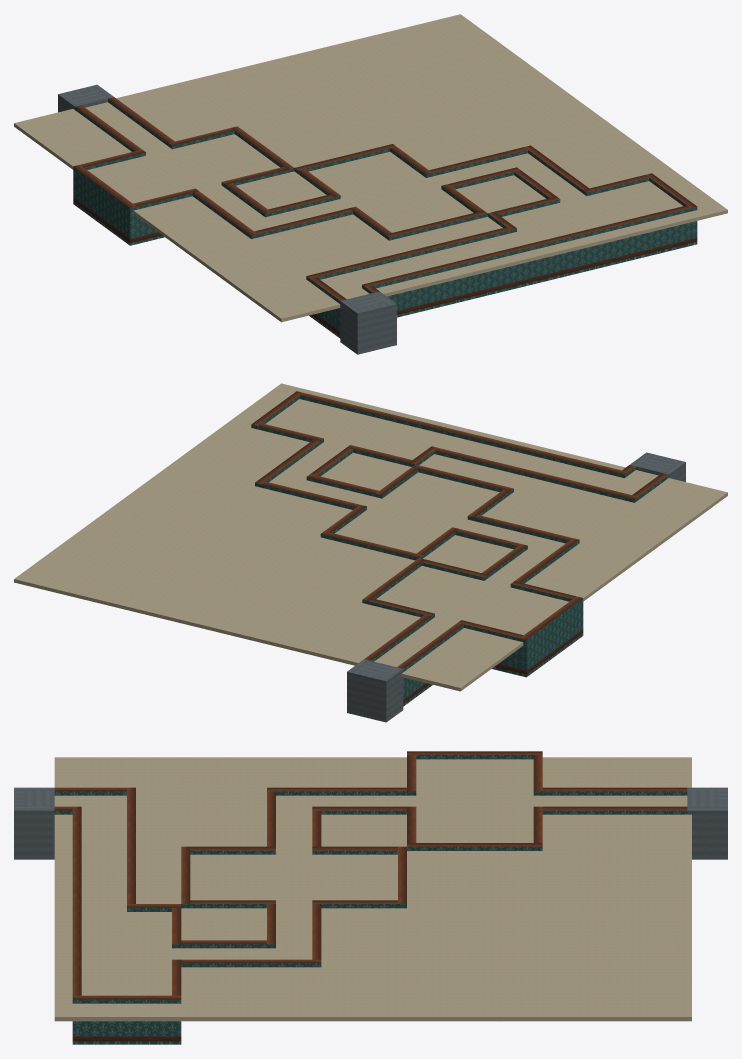
The model's file is level3.fbx.
3 views of the same model, one above another, from view 1: azimuth 30°, elevation 25°; view 2: azimuth 150°, elevation 25°; view 3: azimuth 270°, elevation 25° (orthographic). The views are drawn at different scales.
Parts seen in each view (by area): view 1: Cube.032, Cube.012, Cube.024, Cube.005, Cube.046, Cube.021, Cube.002, Cube.039, Cube.044, Cube.042, Cube.035, Cube.007 (+6 smaller); view 2: Cube.032, Cube.024, Cube.012, Cube.014, Cube.046, Cube.031, Cube.003, Cube.035, Cube.042, Cube.044, Cube.039, Cube.015 (+4 smaller); view 3: Cube.032, Cube.001, Cube.012, Cube.006, Cube.016, Cube.030, Cube.031, Cube.034, Cube.023, Cube.024, Cube.011, Cube.046 (+15 smaller).
Boxes of the visible parts, left/top/right/bottom form: Cube.032: left=14, top=14, right=727, bottom=322; Cube.012: left=362, top=205, right=690, bottom=317; Cube.024: left=73, top=165, right=136, bottom=245; Cube.005: left=353, top=301, right=396, bottom=354; Cube.046: left=306, top=227, right=510, bottom=316; Cube.021: left=133, top=188, right=198, bottom=243; Cube.002: left=310, top=277, right=346, bottom=338; Cube.039: left=385, top=210, right=487, bottom=240; Cube.044: left=429, top=147, right=527, bottom=176; Cube.042: left=254, top=208, right=352, bottom=237; Cube.035: left=294, top=144, right=395, bottom=173; Cube.007: left=340, top=299, right=358, bottom=351; Cube.032: left=14, top=383, right=727, bottom=691; Cube.024: left=520, top=596, right=583, bottom=677; Cube.012: left=299, top=393, right=628, bottom=477; Cube.014: left=347, top=669, right=389, bottom=722; Cube.046: left=434, top=448, right=638, bottom=502; Cube.031: left=397, top=623, right=463, bottom=706; Cube.003: left=458, top=620, right=523, bottom=675; Cube.035: left=320, top=531, right=422, bottom=560; Cube.042: left=474, top=515, right=572, bottom=543; Cube.044: left=261, top=481, right=359, bottom=509; Cube.039: left=412, top=464, right=513, bottom=494; Cube.015: left=384, top=667, right=403, bottom=719; Cube.032: left=54, top=757, right=691, bottom=1021; Cube.001: left=72, top=995, right=181, bottom=1044; Cube.012: left=72, top=806, right=81, bottom=995; Cube.006: left=23, top=806, right=54, bottom=859; Cube.016: left=687, top=806, right=718, bottom=859; Cube.030: left=542, top=806, right=687, bottom=814; Cube.031: left=542, top=787, right=687, bottom=795; Cube.034: left=181, top=959, right=321, bottom=967; Cube.023: left=267, top=787, right=406, bottom=795; Cube.024: left=407, top=751, right=542, bottom=759; Cube.011: left=407, top=843, right=542, bottom=850; Cube.046: left=127, top=787, right=135, bottom=903.
Bounding box in the file's own units: 27400 × 2400 × 31600.
4 materials, 4 textured.
